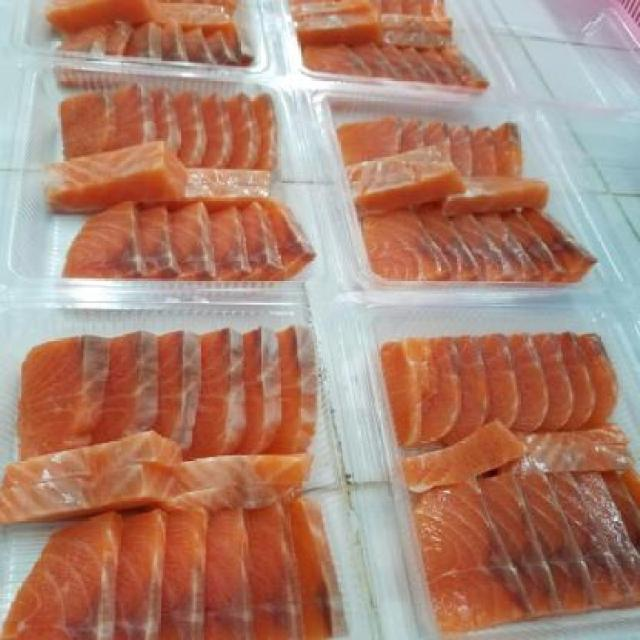salmon: (14, 322, 350, 639), (372, 334, 640, 626), (24, 72, 318, 300), (317, 100, 614, 302), (283, 6, 514, 98), (45, 6, 274, 96)
